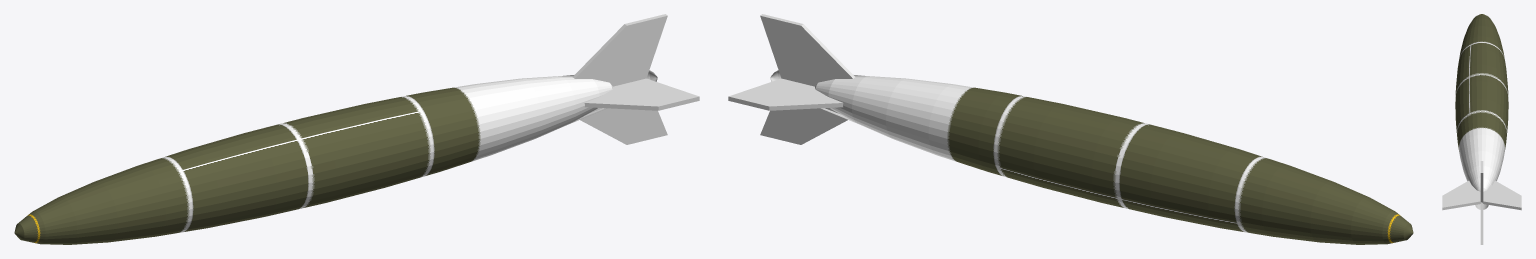
The picture shows the model from 3 angles, left to right: view 1: azimuth 30°, elevation 25°; view 2: azimuth 150°, elevation 25°; view 3: azimuth 270°, elevation 25°; orthographic projection. The views are drawn at different scales.
Parts seen in each view (by area): view 1: 立方体.007; view 2: 立方体.007; view 3: 立方体.007.
Part boxes in pixels (x1,y1,x2,y2): 立方体.007: (14, 14, 699, 244); 立方体.007: (728, 14, 1413, 244); 立方体.007: (1442, 14, 1521, 244).
Bounding box in the file's own units: 3.8 × 0.6652 × 0.6652.
Materials: 1 (1 with a texture image).
